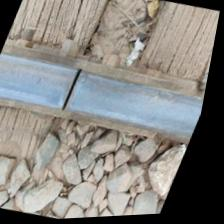person: (29, 53, 118, 132)
